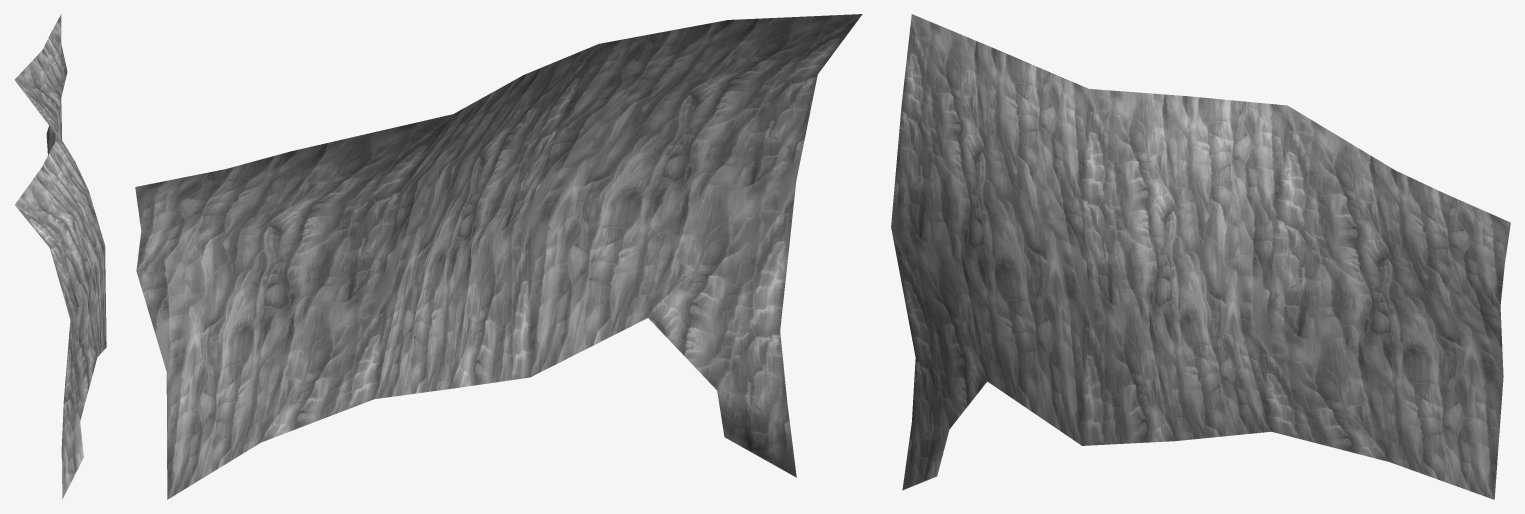
Rendered from SWORDLIGHT20_PS-AREA03_167.fbx.
3 renders of one model, left to right at view 1: azimuth 30°, elevation 25°; view 2: azimuth 150°, elevation 25°; view 3: azimuth 270°, elevation 25°, orthographic. The views are drawn at different scales.
Visible parts, largest first — view 1: SWORDLIGHT20_PS-AREA03_167; view 2: SWORDLIGHT20_PS-AREA03_167; view 3: SWORDLIGHT20_PS-AREA03_167.
Boxes of the visible parts, x1,y1,x2,y2 form: SWORDLIGHT20_PS-AREA03_167: (14, 14, 106, 499); SWORDLIGHT20_PS-AREA03_167: (135, 14, 862, 499); SWORDLIGHT20_PS-AREA03_167: (891, 14, 1510, 499).
Size of the model in its own units: 145422 by 168131 by 209957.
1 material, 1 textured.
